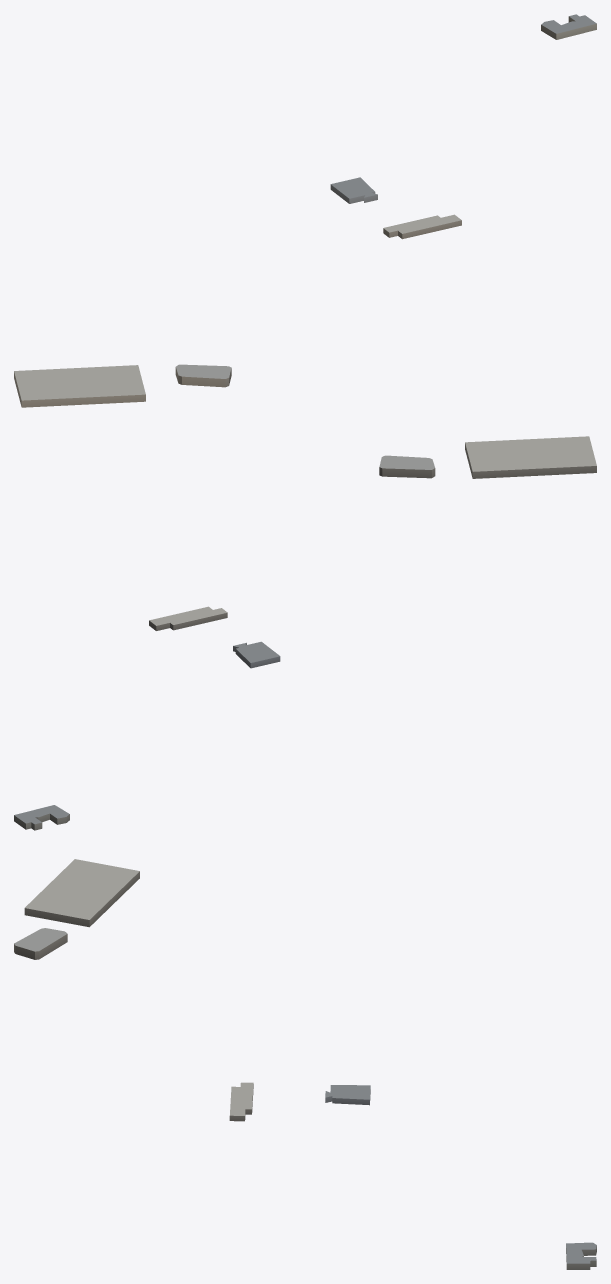
The model's file is bld_19_11.fbx.
3 views of the same model, one above another, from view 1: azimuth 30°, elevation 25°; view 2: azimuth 210°, elevation 25°; view 3: azimuth 270°, elevation 25° (orthographic).
Parts seen in each view (by area): view 1: bld_19_11_LOD0; view 2: bld_19_11_LOD0; view 3: bld_19_11_LOD0.
Boxes of the visible parts, x1,y1,x2,y2 form: bld_19_11_LOD0: (14, 14, 596, 407); bld_19_11_LOD0: (14, 436, 596, 830); bld_19_11_LOD0: (14, 859, 596, 1269).
Size of the model in its own units: 1342 by 12.96 by 819.
